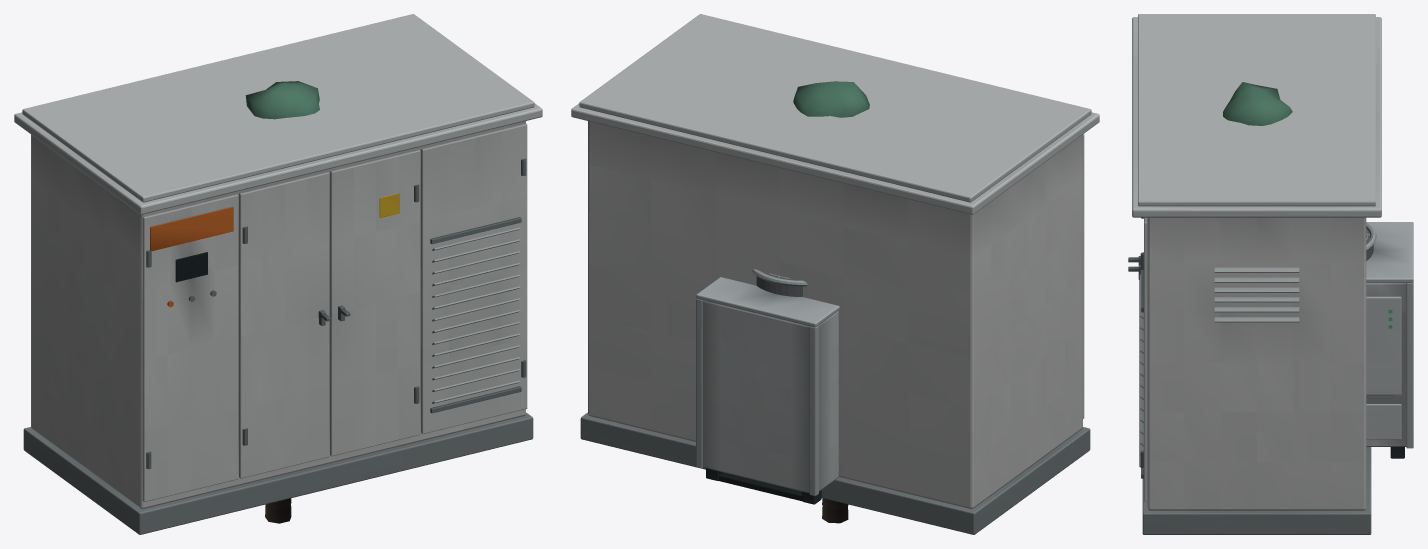
Rendered from hero-equipment-v2.glb.
The picture shows the model from 3 angles, left to right: view 1: azimuth 30°, elevation 25°; view 2: azimuth 150°, elevation 25°; view 3: azimuth 270°, elevation 25°; orthographic projection.
Parts seen in each view (by area): view 1: EssCabinet, TreeB; view 2: EssCabinet, HeatPump, TreeB; view 3: EssCabinet, HeatPump, TreeB.
Boxes of the visible parts, x1,y1,x2,y2 form: EssCabinet: (14, 14, 542, 534); TreeB: (245, 81, 319, 523); EssCabinet: (571, 14, 1099, 534); HeatPump: (696, 269, 839, 504); TreeB: (793, 81, 869, 523); EssCabinet: (1128, 14, 1381, 534); HeatPump: (1366, 222, 1413, 458); TreeB: (1223, 82, 1292, 125).
Size of the model in its own units: 3.76 by 3.88 by 2.35.
